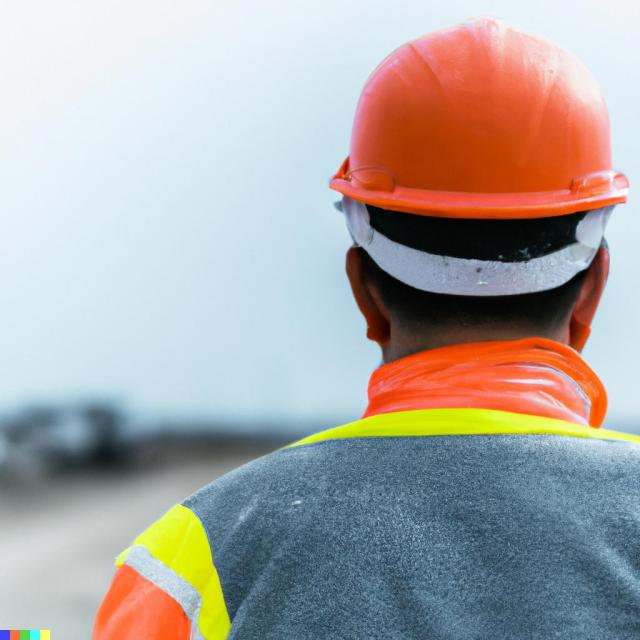Reflective-Jacket: (92, 348, 635, 640)
Safety-Helmet: (327, 18, 632, 216)
